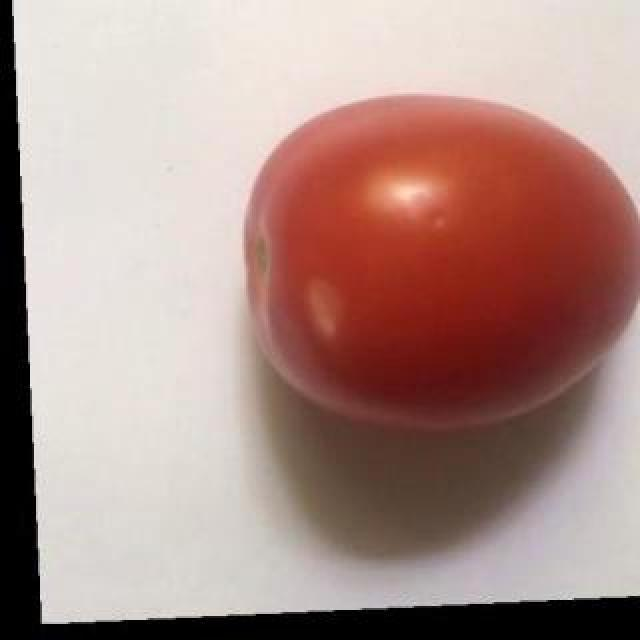Wet: (214, 82, 640, 467)
